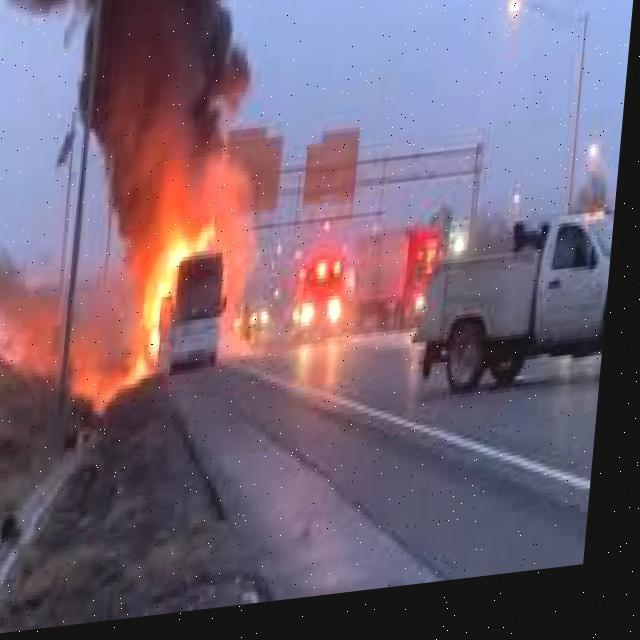Fire: (113, 194, 237, 390)
